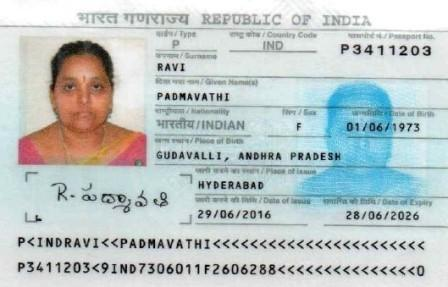DOB: (331, 120, 437, 132)
Surname: (153, 61, 196, 76)
country_code: (254, 39, 288, 55)
date_of_expiry: (334, 208, 440, 223)
date_of_issue: (192, 206, 292, 222)
details: (5, 230, 441, 278)
name: (155, 86, 233, 107)
nationality: (156, 115, 251, 134)
passport_no: (339, 43, 435, 57)
photo: (23, 46, 145, 158)
place_of_birth: (155, 148, 345, 164)
place_of_issue: (196, 178, 269, 192)
sex: (286, 118, 304, 130)
sign: (50, 178, 172, 221)
type: (163, 36, 182, 54)
